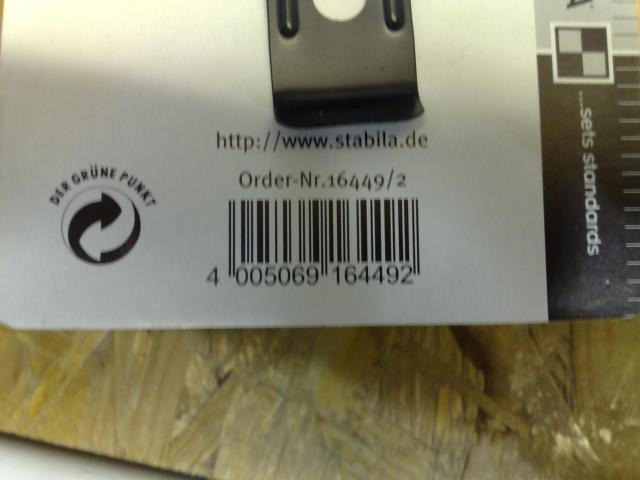Barcode: (199, 193, 424, 297)
